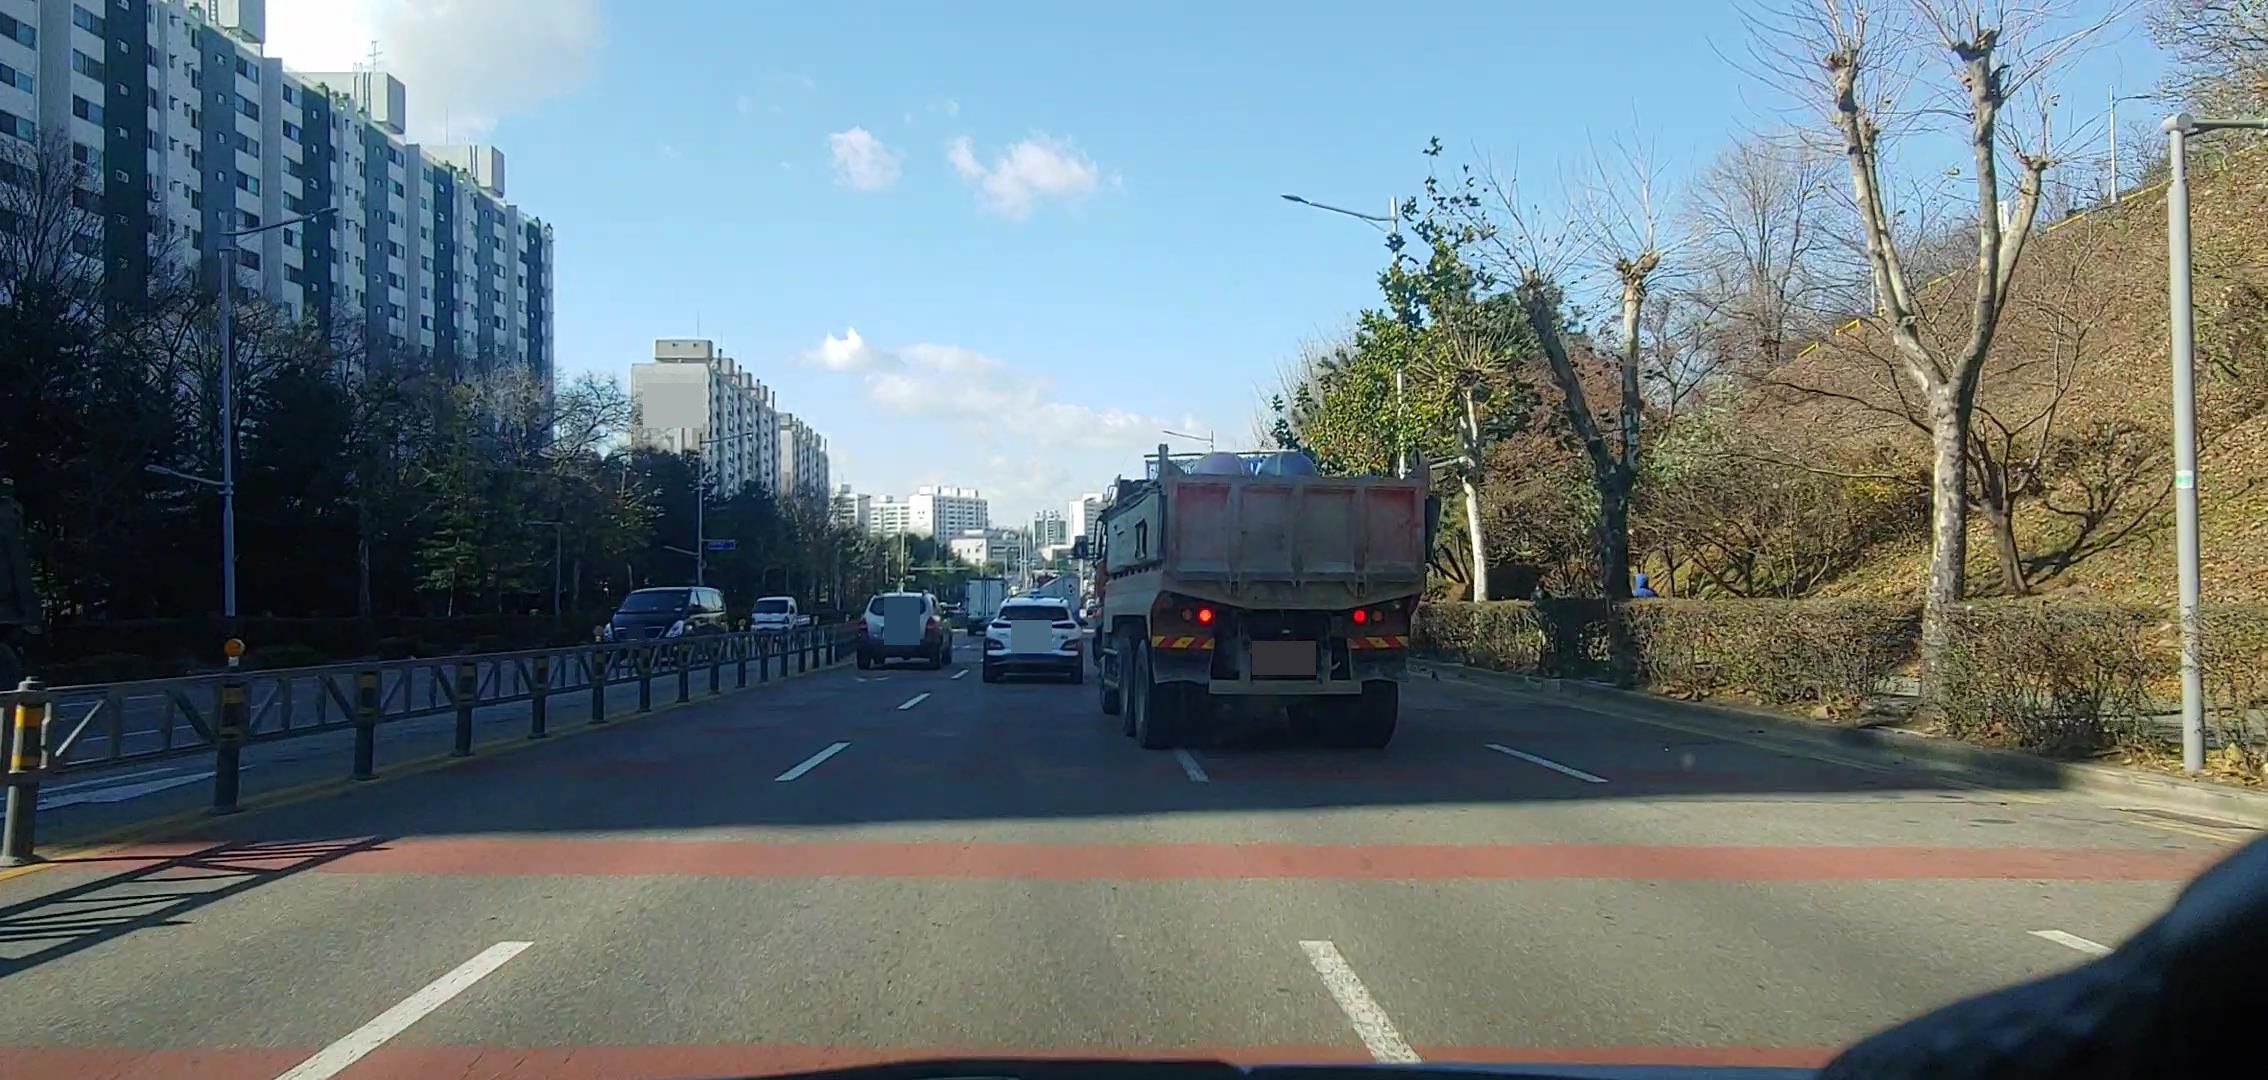불법차량: (1072, 443, 1442, 750)
